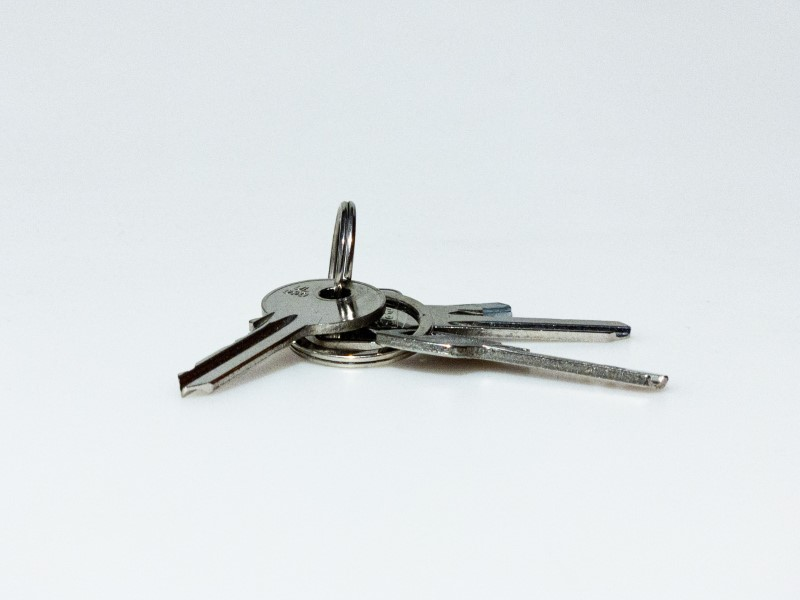key: (175, 270, 669, 397)
